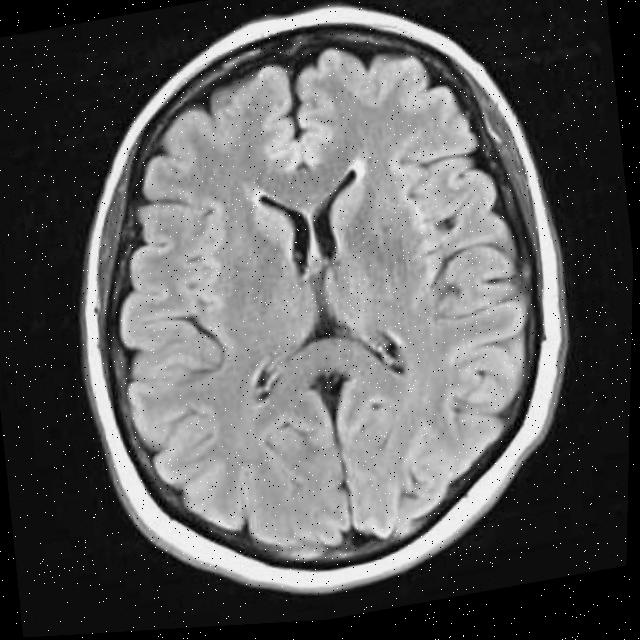NoTumor: (34, 0, 612, 637)
